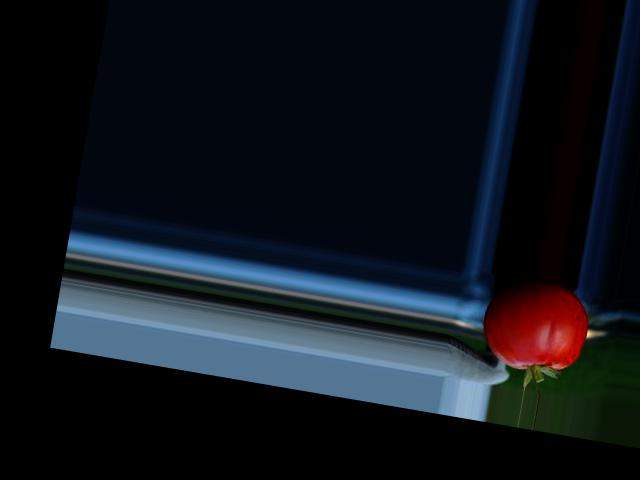tomato: (477, 272, 595, 378)
